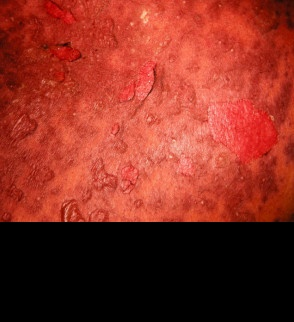SJS-TEN: (0, 0, 289, 229)
